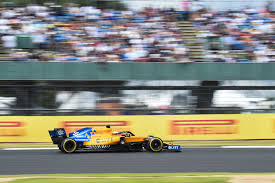FormulaOneCar: (46, 118, 187, 160)
